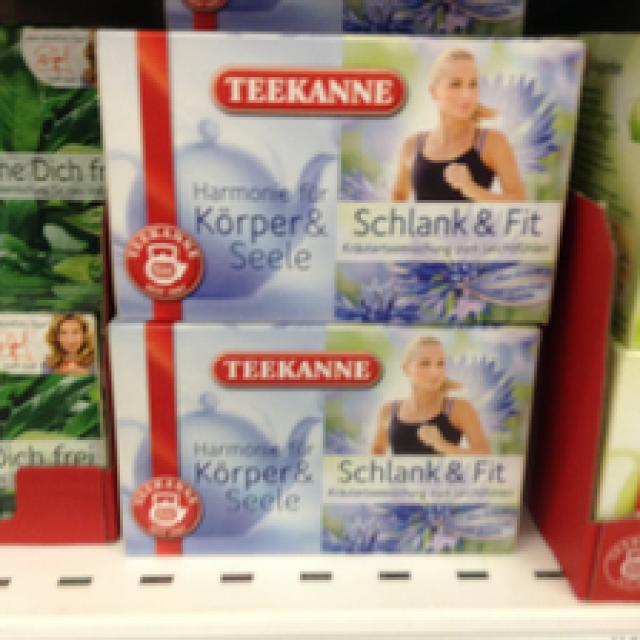groceries: (89, 17, 586, 317), (103, 314, 540, 557)
